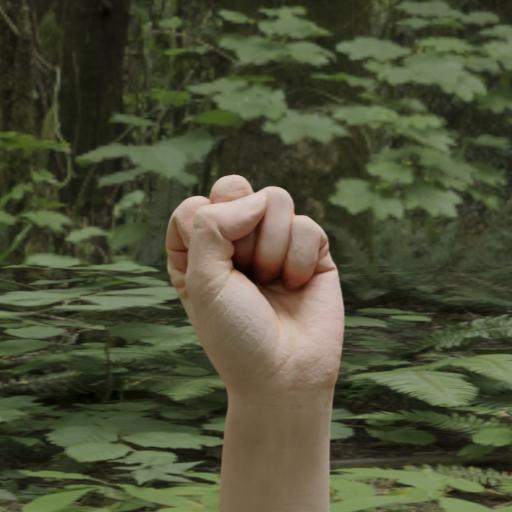S: (146, 112, 434, 501)
